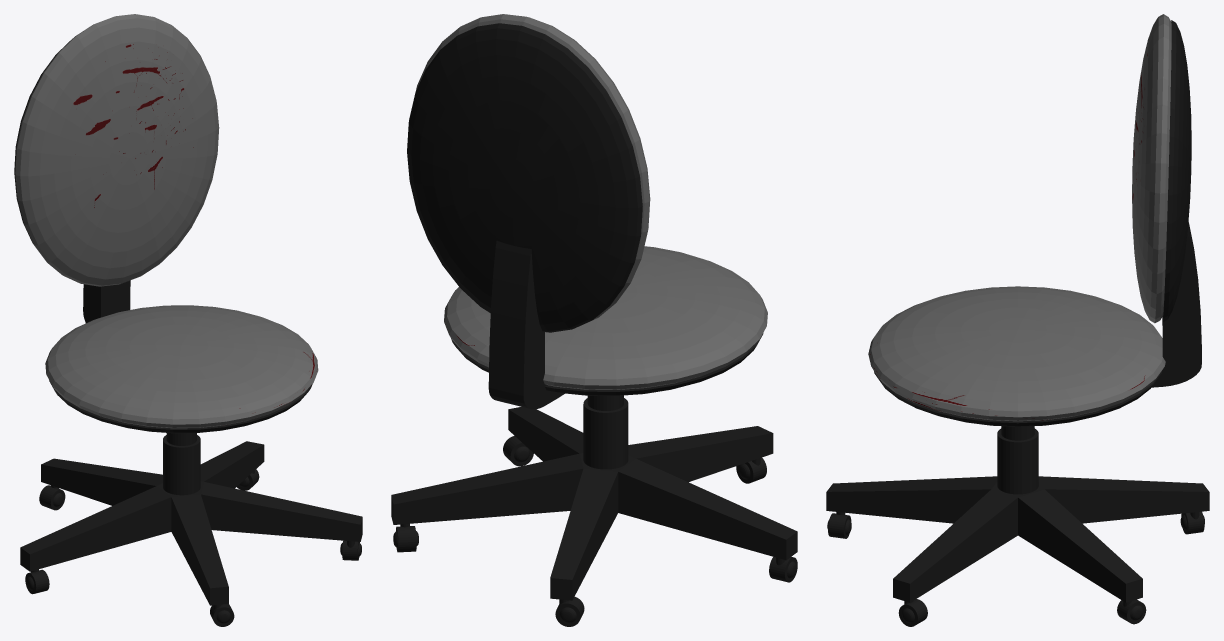
The model's file is chair.fbx.
3 renders of one model, left to right at view 1: azimuth 30°, elevation 25°; view 2: azimuth 150°, elevation 25°; view 3: azimuth 270°, elevation 25°, orthographic. The views are drawn at different scales.
Parts seen in each view (by area): view 1: Sphere.003, Sphere.001, Cube.006, Cylinder.013, Cylinder.014, Sphere, Cylinder.008, Cylinder.012; view 2: Sphere.002, Cube.006, Sphere.001, Cylinder.014, Sphere.003, Cylinder.013, Sphere, Cylinder.008, Cylinder.010, Cylinder.011, Cylinder.012, Cylinder.009; view 3: Sphere.001, Cube.006, Sphere.003, Sphere.002, Cylinder.014, Cylinder.013, Sphere, Cylinder.010, Cylinder.009, Cylinder.011.
Part boxes in pixels (x1,y1,x2,y2): Sphere.003: [15, 14, 219, 286]; Sphere.001: [45, 305, 318, 428]; Cube.006: [20, 441, 362, 605]; Cylinder.013: [163, 433, 200, 495]; Cylinder.014: [83, 280, 130, 322]; Sphere: [49, 380, 312, 433]; Cylinder.008: [39, 485, 65, 510]; Cylinder.012: [25, 569, 49, 594]; Sphere.002: [407, 23, 642, 332]; Cube.006: [391, 407, 797, 600]; Sphere.001: [444, 246, 767, 389]; Cylinder.014: [488, 240, 564, 409]; Sphere.003: [415, 14, 650, 326]; Cylinder.013: [583, 395, 628, 469]; Sphere: [451, 333, 763, 395]; Cylinder.008: [555, 596, 584, 626]; Cylinder.010: [503, 436, 533, 466]; Cylinder.011: [393, 524, 418, 552]; Cylinder.012: [769, 556, 797, 582]; Cylinder.009: [736, 457, 766, 483]; Sphere.001: [868, 286, 1165, 421]; Cube.006: [826, 476, 1209, 602]; Sphere.003: [1132, 14, 1171, 323]; Sphere.002: [1162, 20, 1191, 321]; Cylinder.014: [1152, 222, 1201, 387]; Cylinder.013: [997, 426, 1038, 494]; Sphere: [874, 371, 1161, 426]; Cylinder.010: [898, 599, 927, 626]; Cylinder.009: [827, 512, 851, 538]; Cylinder.011: [1117, 599, 1146, 624].
Size of the model in its own units: 320 by 517 by 335.
